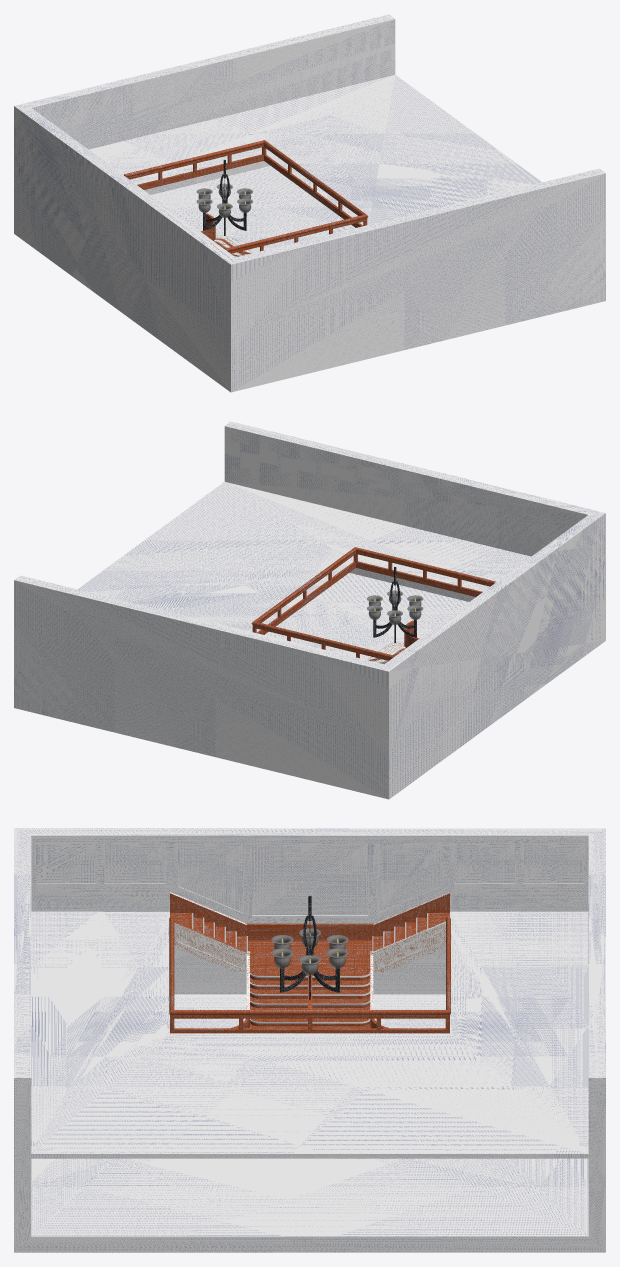
Rendered from Staircase.dae.
The picture shows the model from 3 angles, top to bottom: view 1: azimuth 30°, elevation 25°; view 2: azimuth 150°, elevation 25°; view 3: azimuth 270°, elevation 25°; orthographic projection. The views are drawn at different scales.
Visible parts, largest first — view 1: Grand_Staircase (×2); view 2: Grand_Staircase (×2); view 3: Grand_Staircase (×10), SketchUp.
Part boxes in pixels (x1,y1,x2,y2): Grand_Staircase (×2): (14, 14, 605, 392); Grand_Staircase (×2): (14, 421, 605, 799); Grand_Staircase (×10): (14, 828, 605, 1252); SketchUp: (36, 843, 95, 883).
Bounding box in the file's own units: 1064 × 1066 × 346.
